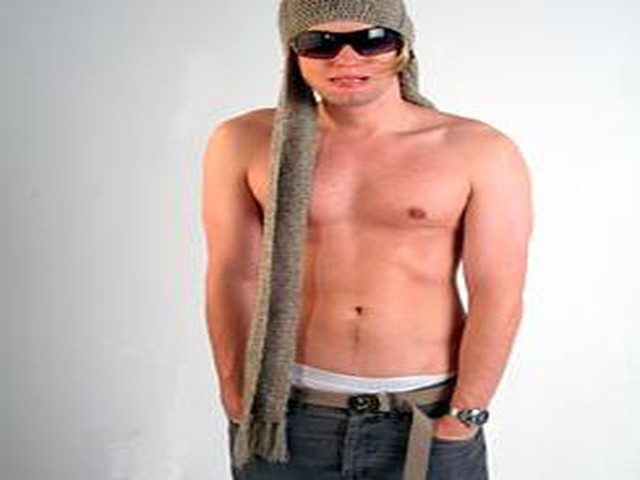Person: (185, 5, 541, 478)
